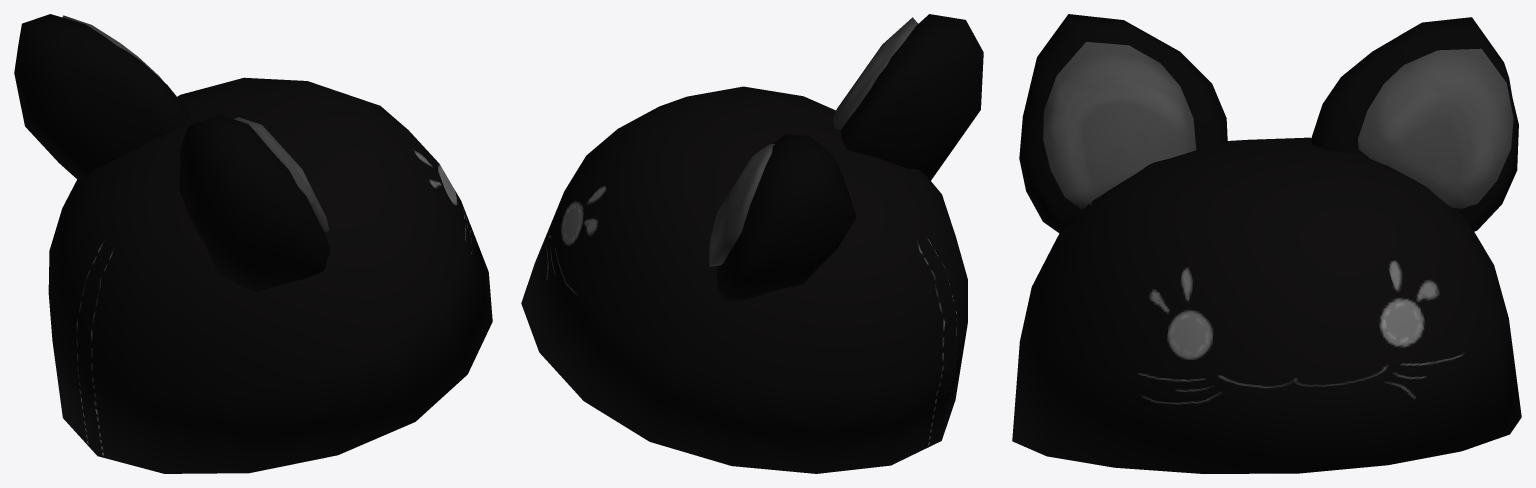
The model's file is SM_Cat.fbx.
3 views of the same model, side by side, from view 1: azimuth 30°, elevation 25°; view 2: azimuth 150°, elevation 25°; view 3: azimuth 270°, elevation 25° (orthographic). The views are drawn at different scales.
Visible parts, largest first — view 1: polySurface1; view 2: polySurface1; view 3: polySurface1.
Boxes of the visible parts, <box> form: polySurface1: <box>14,14,492,473</box>; polySurface1: <box>521,14,983,473</box>; polySurface1: <box>1012,14,1521,473</box>.
Size of the model in its own units: 1.97 by 1.72 by 1.97.
1 material, 1 textured.
